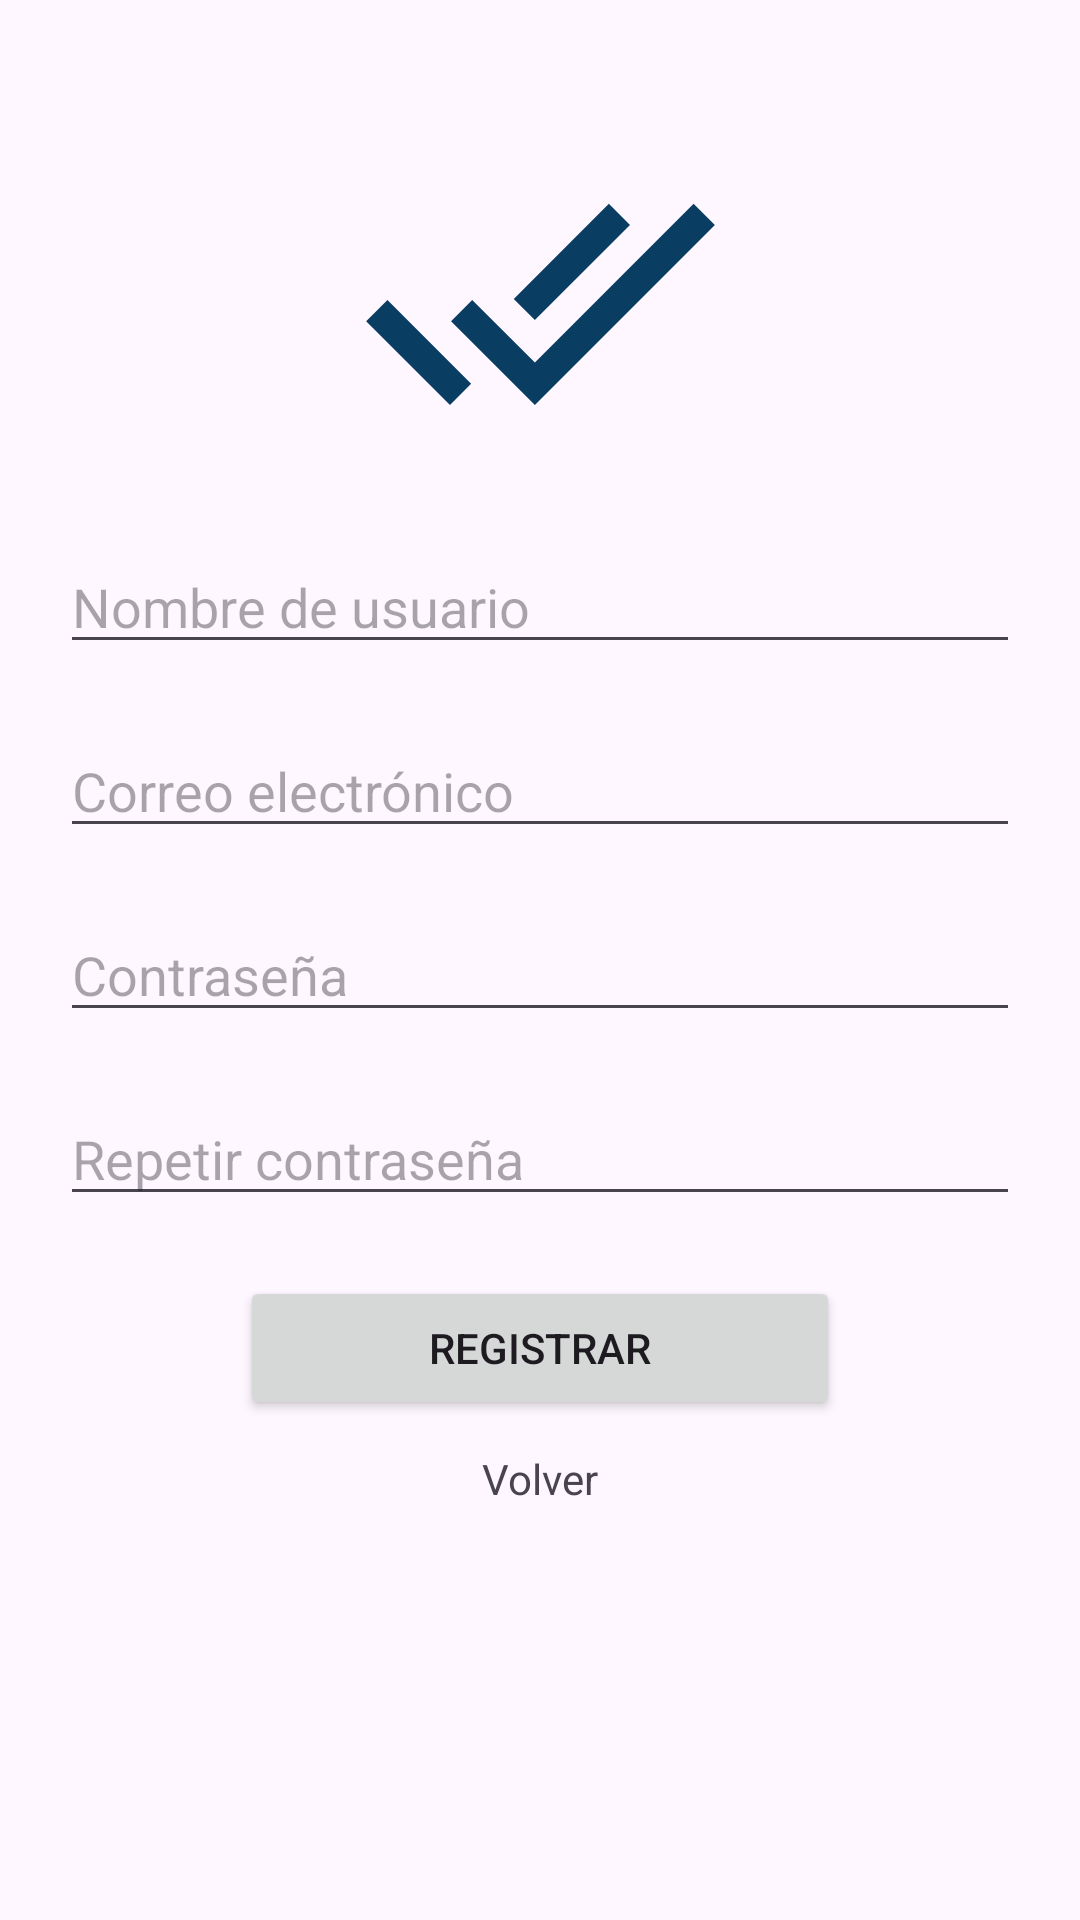

Icon bounding boxes for this 1080px x 1920px phone screenshot, format [x1=x1, y1=y1, x2=x2, y2=y2]:
done all: [x1=366, y1=204, x2=715, y2=405]
